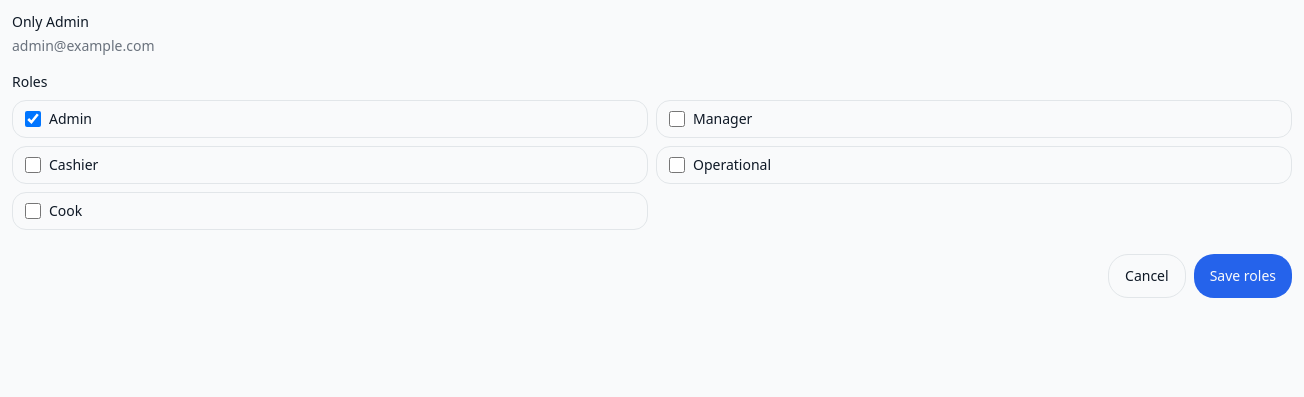
Test case: AdminUserRolesForm › shows a warning when removing the last admin role
The image size is (1304, 397).
Click the checkbox labelled "Admin".
click(33, 119)  # box [25,111,41,127]
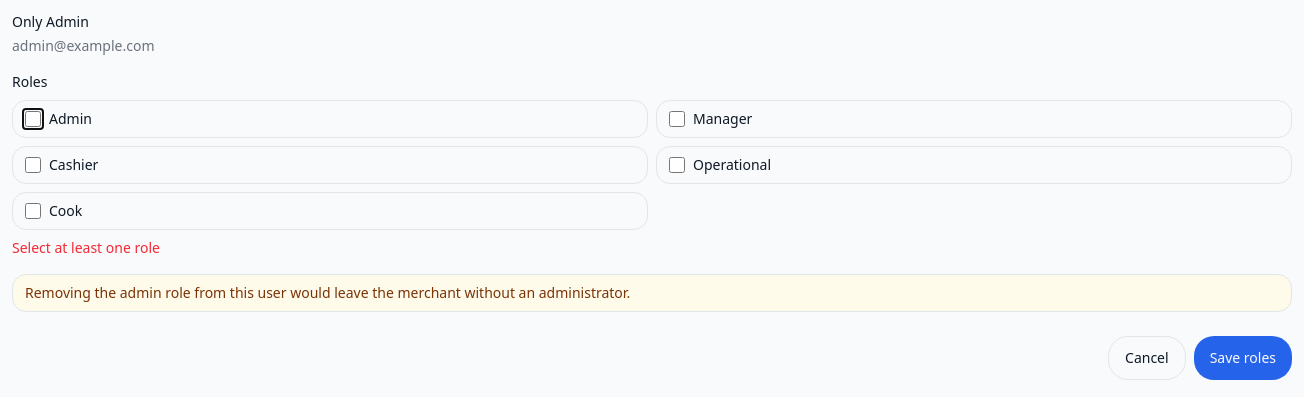
Expected: the text "without an administrator" is shown, [25,283,630,302]
